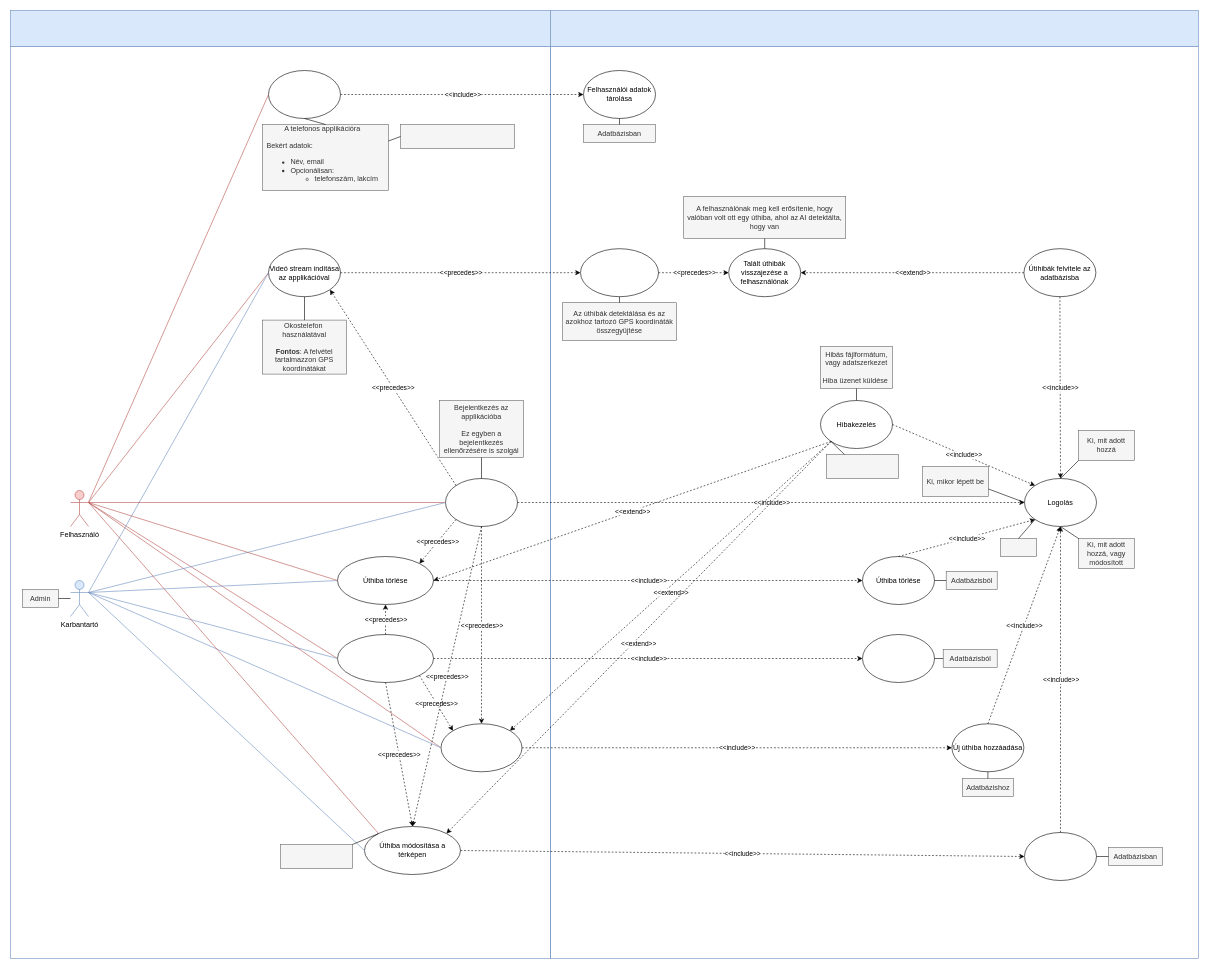
Image size: 1209x969. Some labels were removed from this diagram. Here are the shapes that lost their labels. From the top down, the centre of each, then its label:
(x=280, y=28): Kliens oldal
(x=874, y=28): Szerver oldal
(x=304, y=94): Regisztráció
(x=457, y=136): Az Admin felhasználókat manuálisan visszük fel
(x=619, y=272): Felvétel feldolgozása
(x=862, y=466): Adatbázis hibaüzenet kezelése
(x=481, y=502): Bejelentkezés
(x=1018, y=547): Ki, mit törölt
(x=385, y=658): Az applikációban az úti hibák térképének megtekintése
(x=898, y=658): Úti hibák koordinátáinak lekérdezése
(x=481, y=747): Új úthiba felvitele a térképre
(x=316, y=856): Csak a sajátját tudja módosítani
(x=1060, y=856): Úthiba módosítása
